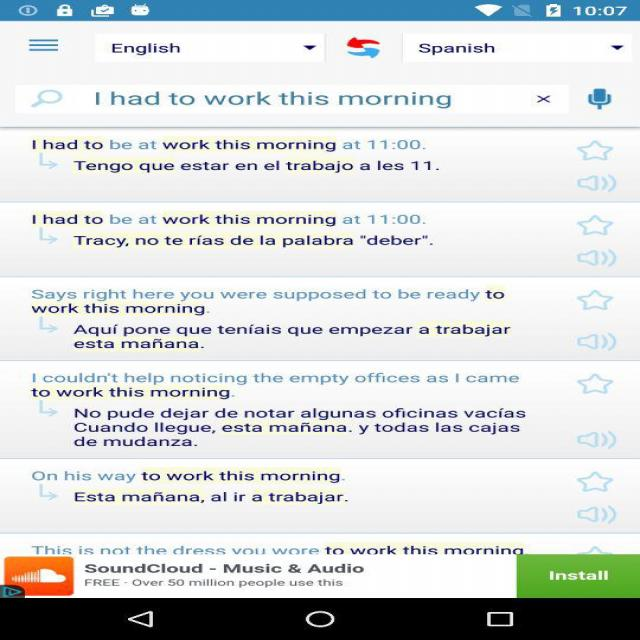button: (516, 558, 640, 592), (338, 33, 399, 61), (587, 82, 635, 114), (19, 30, 78, 54), (19, 89, 70, 111)
icon: (566, 287, 630, 356), (570, 372, 625, 450), (574, 140, 629, 201), (563, 469, 619, 528), (581, 214, 627, 271), (22, 155, 68, 176), (23, 321, 68, 338), (29, 403, 62, 425), (38, 230, 70, 248), (29, 489, 62, 504)
text: (68, 404, 548, 445), (24, 368, 546, 403), (28, 284, 534, 316), (72, 321, 523, 355), (80, 86, 472, 117), (64, 560, 380, 593), (30, 205, 436, 229), (64, 230, 442, 254), (24, 134, 444, 155), (72, 155, 453, 176), (19, 466, 378, 487), (30, 542, 538, 556), (64, 490, 375, 509), (410, 34, 504, 59), (102, 37, 201, 59), (536, 568, 616, 588)
